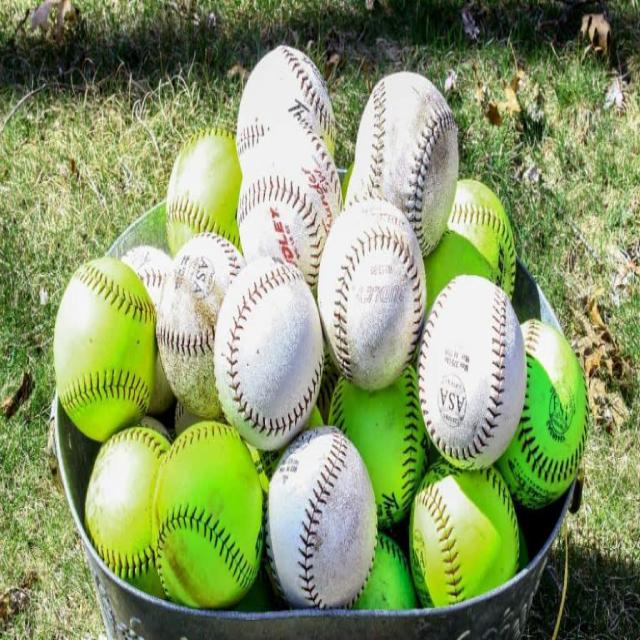baseball: (212, 258, 322, 452), (267, 424, 378, 606), (421, 276, 525, 468), (318, 202, 422, 385), (356, 70, 457, 232), (239, 134, 334, 264), (157, 237, 222, 420), (240, 41, 334, 144)
